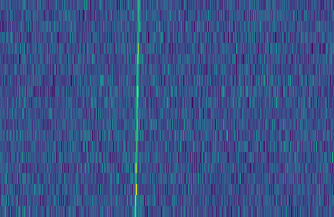signal: (129, 0, 142, 217)
